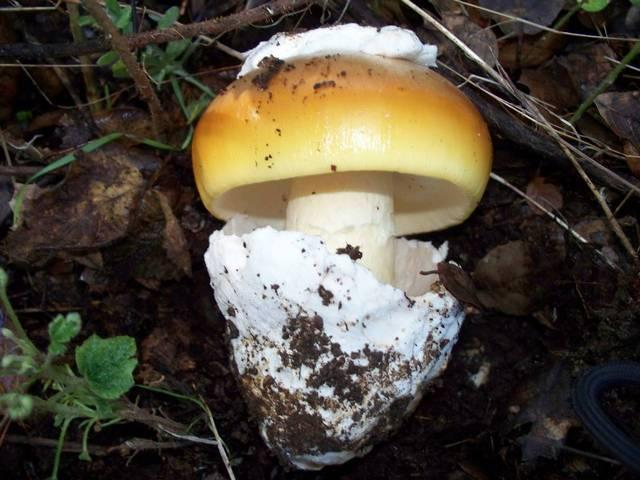edible_mushroom: (189, 22, 494, 470)
